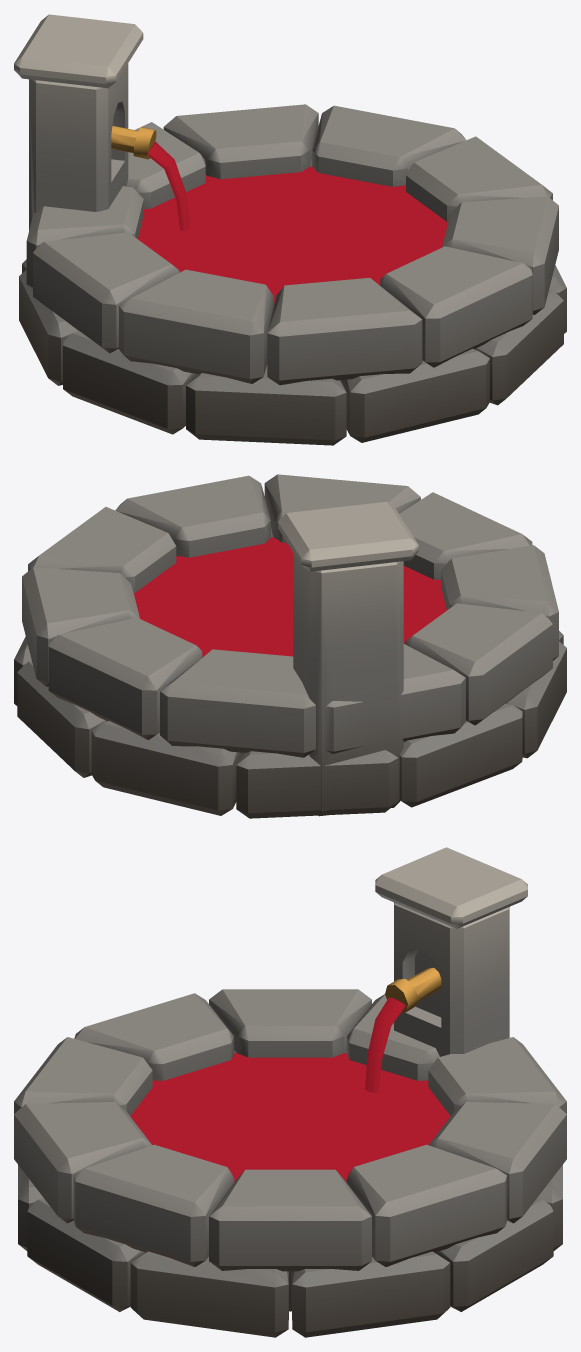
Rendered from fountain_spring_health.glb.
The picture shows the model from 3 angles, top to bottom: view 1: azimuth 30°, elevation 25°; view 2: azimuth 150°, elevation 25°; view 3: azimuth 270°, elevation 25°; orthographic projection. The views are drawn at different scales.
Visible parts, largest first — view 1: Item; view 2: Item; view 3: Item.
Part boxes in pixels (x1,y1,x2,y2): Item: (14,14,566,445); Item: (14,474,566,818); Item: (14,847,566,1337).
Bounding box in the file's own units: 2.27 × 1.24 × 2.23.
3 materials, 3 textured.
